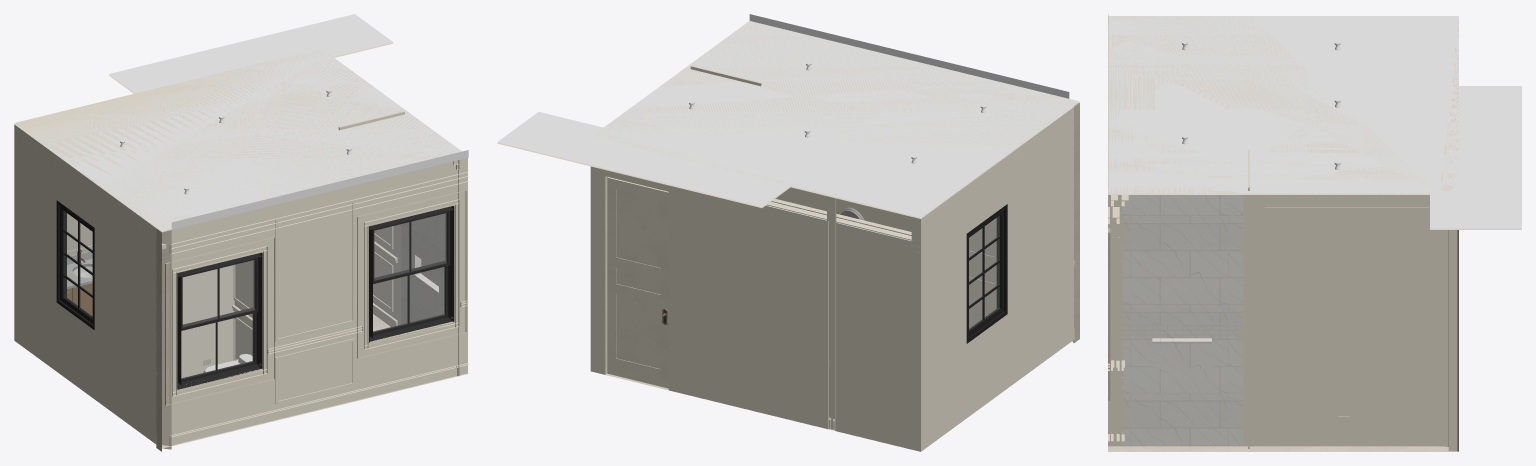
Rendered from primary-bath-4873a0c0feb4.glb.
3 renders of one model, left to right at view 1: azimuth 30°, elevation 25°; view 2: azimuth 150°, elevation 25°; view 3: azimuth 270°, elevation 25°, orthographic. The views are drawn at different scales.
Visible parts, largest first — view 1: primary-bath-9d91b47435c6fb33, primary-bath-b0ade14315e4f1c3, primary-bath-c51ecd664a3b22a3, primary-bath-e8793759323e04f0, primary-bath-60f0db96f832035a, primary-bath-b5cb73c07919def8, primary-bath-look-9d91b47435c6fb33, primary-bath-10eba734bfa580f9, primary-bath-20932135983111ad, primary-bath-ef64d5096d209f6d, primary-bath-b5339e4b2b15762b, primary-bath-62353aa10fc57f23 (+12 smaller); view 2: primary-bath-9ecc0d558be1c706, primary-bath-9d91b47435c6fb33, primary-bath-c51ecd664a3b22a3, primary-bath-e8793759323e04f0, primary-bath-18f70a4a9eda5dac, primary-bath-look-9d91b47435c6fb33, primary-bath-20932135983111ad, primary-bath-25ea03c5717987c5, primary-bath-e48b5483df8cacdb, primary-bath-b88ac105ef7c3bdb, primary-bath-62353aa10fc57f23, primary-bath-1a6c50e4c3accb7b (+2 smaller); view 3: primary-bath-9d91b47435c6fb33, primary-bath-fc6585fecfaf7ec3, primary-bath-e8793759323e04f0, primary-bath-3d8660a29b1e398e, primary-bath-2bc0761cc32b9613, primary-bath-look-9d91b47435c6fb33, primary-bath-c791a0f218fead78, primary-bath-9ecc0d558be1c706, primary-bath-343da8f45fc39332, primary-bath-b3921aced1f99593, primary-bath-b3dc771ed6f89851, primary-bath-38b306e83be12a4b (+8 smaller).
Part boxes in pixels (box(x1,y1,x2,y2)): primary-bath-9d91b47435c6fb33: box(18, 48, 468, 232); primary-bath-b0ade14315e4f1c3: box(171, 157, 467, 434); primary-bath-c51ecd664a3b22a3: box(14, 124, 156, 444); primary-bath-e8793759323e04f0: box(14, 51, 468, 229); primary-bath-60f0db96f832035a: box(177, 252, 262, 389); primary-bath-b5cb73c07919def8: box(369, 206, 454, 342); primary-bath-look-9d91b47435c6fb33: box(109, 14, 393, 93); primary-bath-10eba734bfa580f9: box(184, 265, 234, 377); primary-bath-20932135983111ad: box(56, 200, 94, 329); primary-bath-ef64d5096d209f6d: box(169, 363, 468, 445); primary-bath-b5339e4b2b15762b: box(169, 171, 468, 254); primary-bath-62353aa10fc57f23: box(156, 228, 171, 451); primary-bath-9ecc0d558be1c706: box(590, 166, 919, 451); primary-bath-9d91b47435c6fb33: box(591, 21, 1079, 218); primary-bath-c51ecd664a3b22a3: box(911, 107, 1073, 451); primary-bath-e8793759323e04f0: box(595, 14, 1077, 210); primary-bath-18f70a4a9eda5dac: box(607, 177, 668, 388); primary-bath-look-9d91b47435c6fb33: box(497, 112, 790, 207); primary-bath-20932135983111ad: box(966, 204, 1007, 343); primary-bath-25ea03c5717987c5: box(969, 218, 996, 328); primary-bath-e48b5483df8cacdb: box(827, 196, 836, 430); primary-bath-b88ac105ef7c3bdb: box(603, 174, 669, 390); primary-bath-62353aa10fc57f23: box(1072, 103, 1079, 342); primary-bath-1a6c50e4c3accb7b: box(777, 187, 879, 224); primary-bath-9d91b47435c6fb33: box(1108, 16, 1458, 194); primary-bath-fc6585fecfaf7ec3: box(1248, 193, 1458, 451); primary-bath-e8793759323e04f0: box(1108, 14, 1458, 193); primary-bath-3d8660a29b1e398e: box(1121, 195, 1242, 324); primary-bath-2bc0761cc32b9613: box(1121, 338, 1242, 446); primary-bath-look-9d91b47435c6fb33: box(1430, 86, 1521, 229); primary-bath-c791a0f218fead78: box(1108, 189, 1247, 451); primary-bath-9ecc0d558be1c706: box(1447, 230, 1458, 451); primary-bath-343da8f45fc39332: box(1253, 434, 1439, 446); primary-bath-b3921aced1f99593: box(1108, 446, 1457, 451); primary-bath-b3dc771ed6f89851: box(1264, 207, 1428, 352); primary-bath-38b306e83be12a4b: box(1121, 324, 1242, 338).
Bounding box in the file's own units: 5.14 × 3.04 × 4.23.
Materials: 37 (8 with a texture image).
